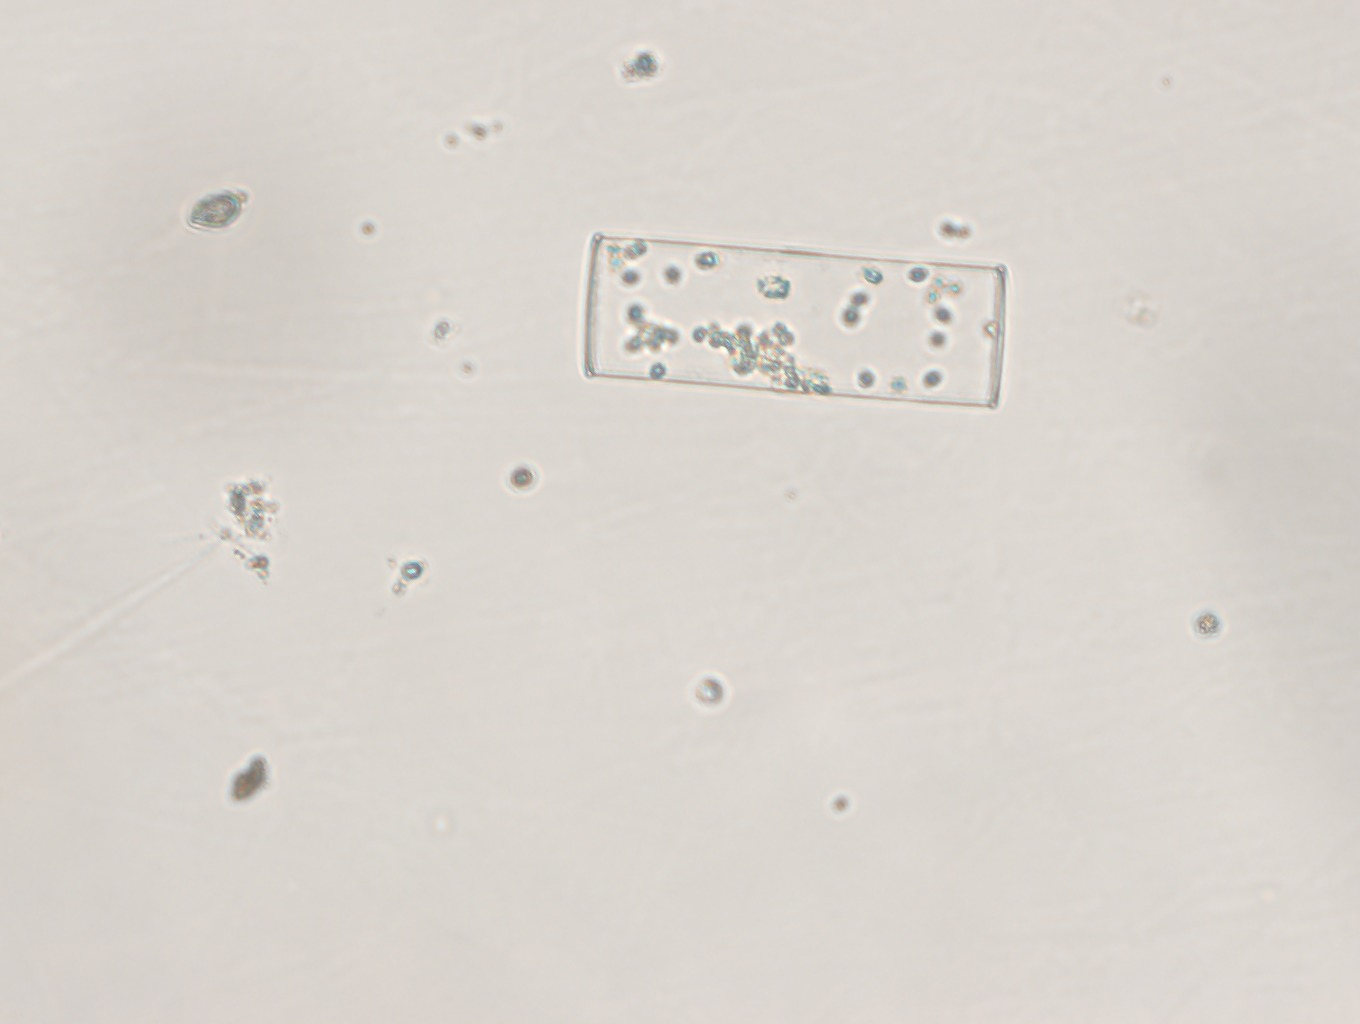guinardia flaccida: (581, 221, 1014, 421)
